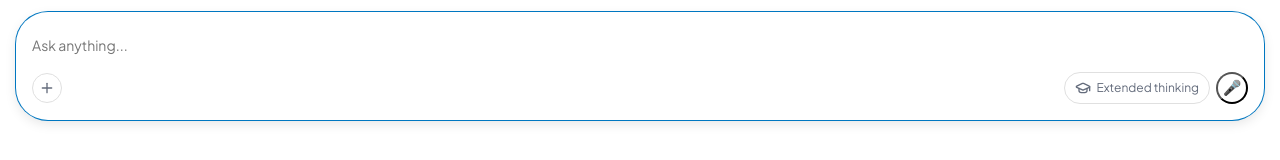
Test: MessageInput Send button visibility › hides Send again once the message has been sent
Type "hi" into the text box with placeholder "Ask anything..." at (640, 46), box [32,28,1248,64]
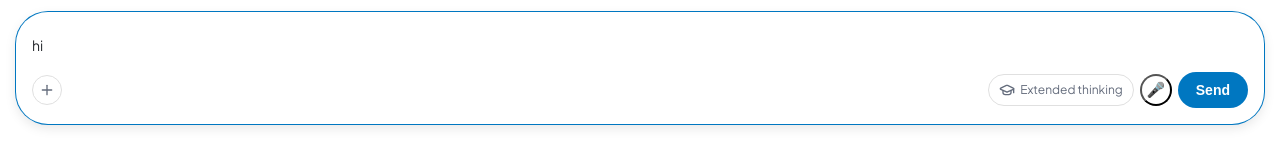
Press Enter in the text box with placeholder "Ask anything...", box [32,28,1248,64]
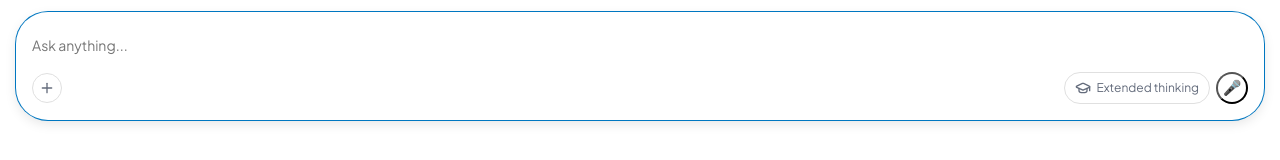
Expected: the button "Send" is gone
